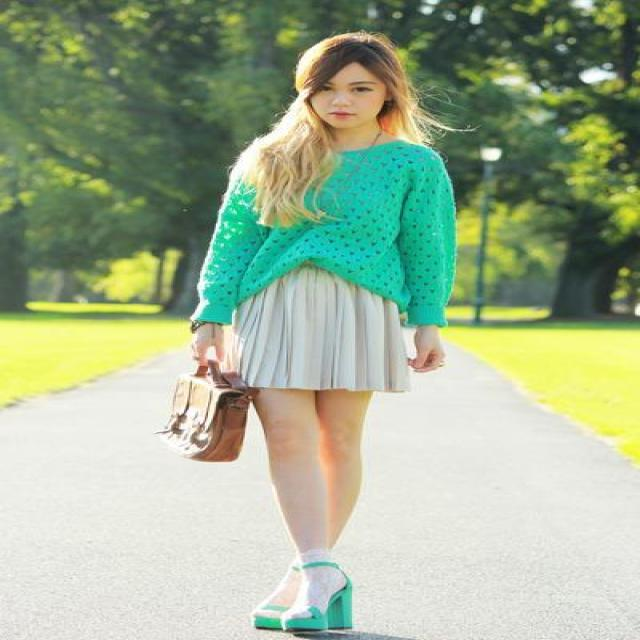bag: (154, 353, 266, 463)
jacket: (189, 141, 454, 326)
shoe: (254, 560, 350, 639)
skirt: (232, 258, 450, 393)
